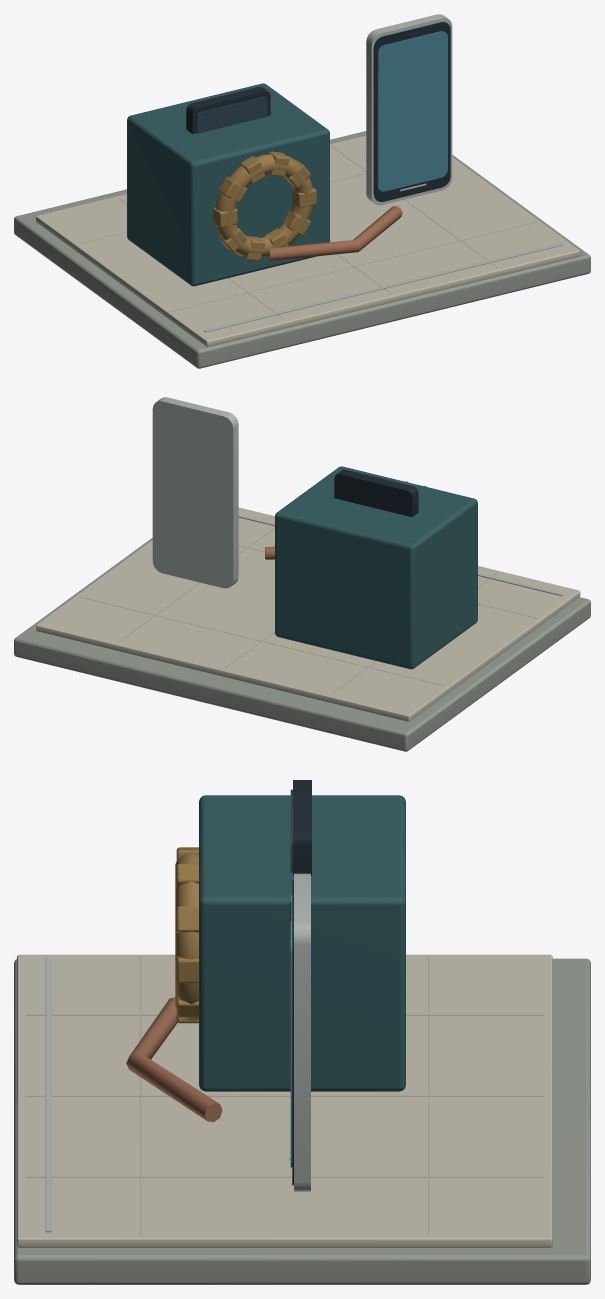
The model's file is idea-b5d70efc.glb.
The picture shows the model from 3 angles, top to bottom: view 1: azimuth 30°, elevation 25°; view 2: azimuth 150°, elevation 25°; view 3: azimuth 270°, elevation 25°; orthographic projection. The views are drawn at different scales.
Parts seen in each view (by area): view 1: Machine ↔ Phone Bridge; view 2: Machine ↔ Phone Bridge; view 3: Machine ↔ Phone Bridge.
Part boxes in pixels (box(x1,y1,x2,y2)): Machine ↔ Phone Bridge: box(14, 14, 590, 368); Machine ↔ Phone Bridge: box(14, 397, 590, 751); Machine ↔ Phone Bridge: box(14, 780, 590, 1284).
Size of the model in its own units: 4.8 by 2.38 by 3.9.
